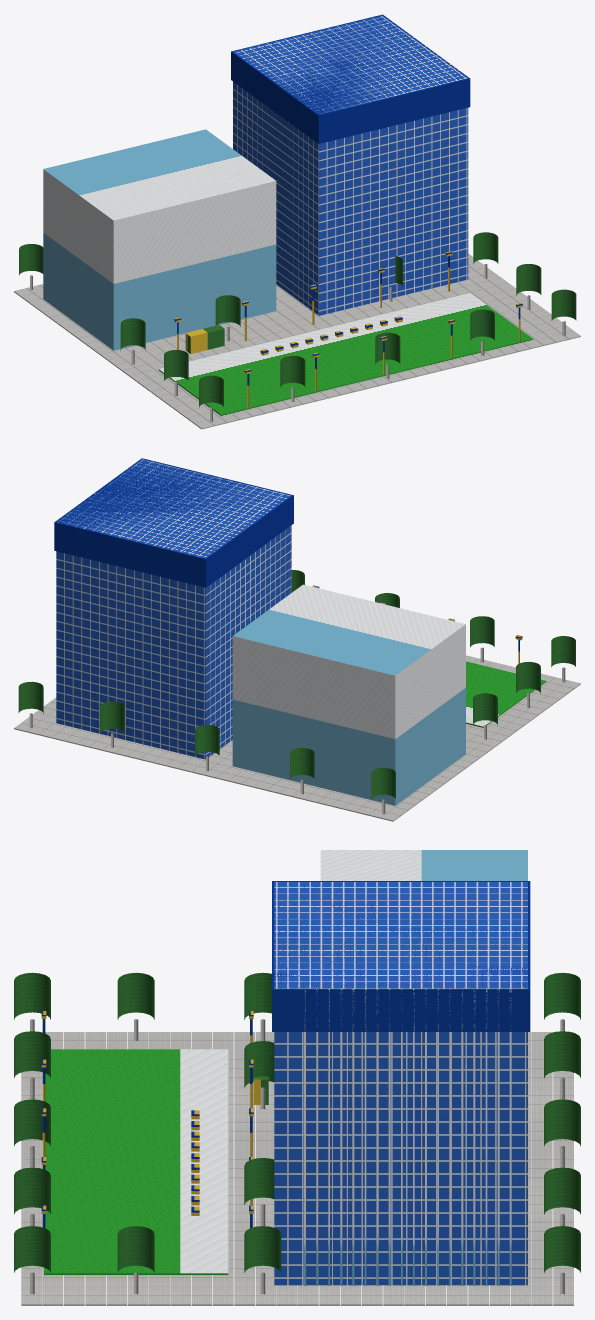
The picture shows the model from 3 angles, top to bottom: view 1: azimuth 30°, elevation 25°; view 2: azimuth 150°, elevation 25°; view 3: azimuth 270°, elevation 25°; orthographic projection. The views are drawn at different scales.
Visible parts, largest first — view 1: 28185_B34_DongA_ST_Bio_RND_Campus; view 2: 28185_B34_DongA_ST_Bio_RND_Campus; view 3: 28185_B34_DongA_ST_Bio_RND_Campus.
Part boxes in pixels (x1,y1,x2,y2): 28185_B34_DongA_ST_Bio_RND_Campus: (14, 14, 580, 429); 28185_B34_DongA_ST_Bio_RND_Campus: (14, 458, 580, 821); 28185_B34_DongA_ST_Bio_RND_Campus: (14, 850, 580, 1305).
Size of the model in its own units: 55.95 by 28.5 by 49.2.
Materials: 1 (1 with a texture image).
